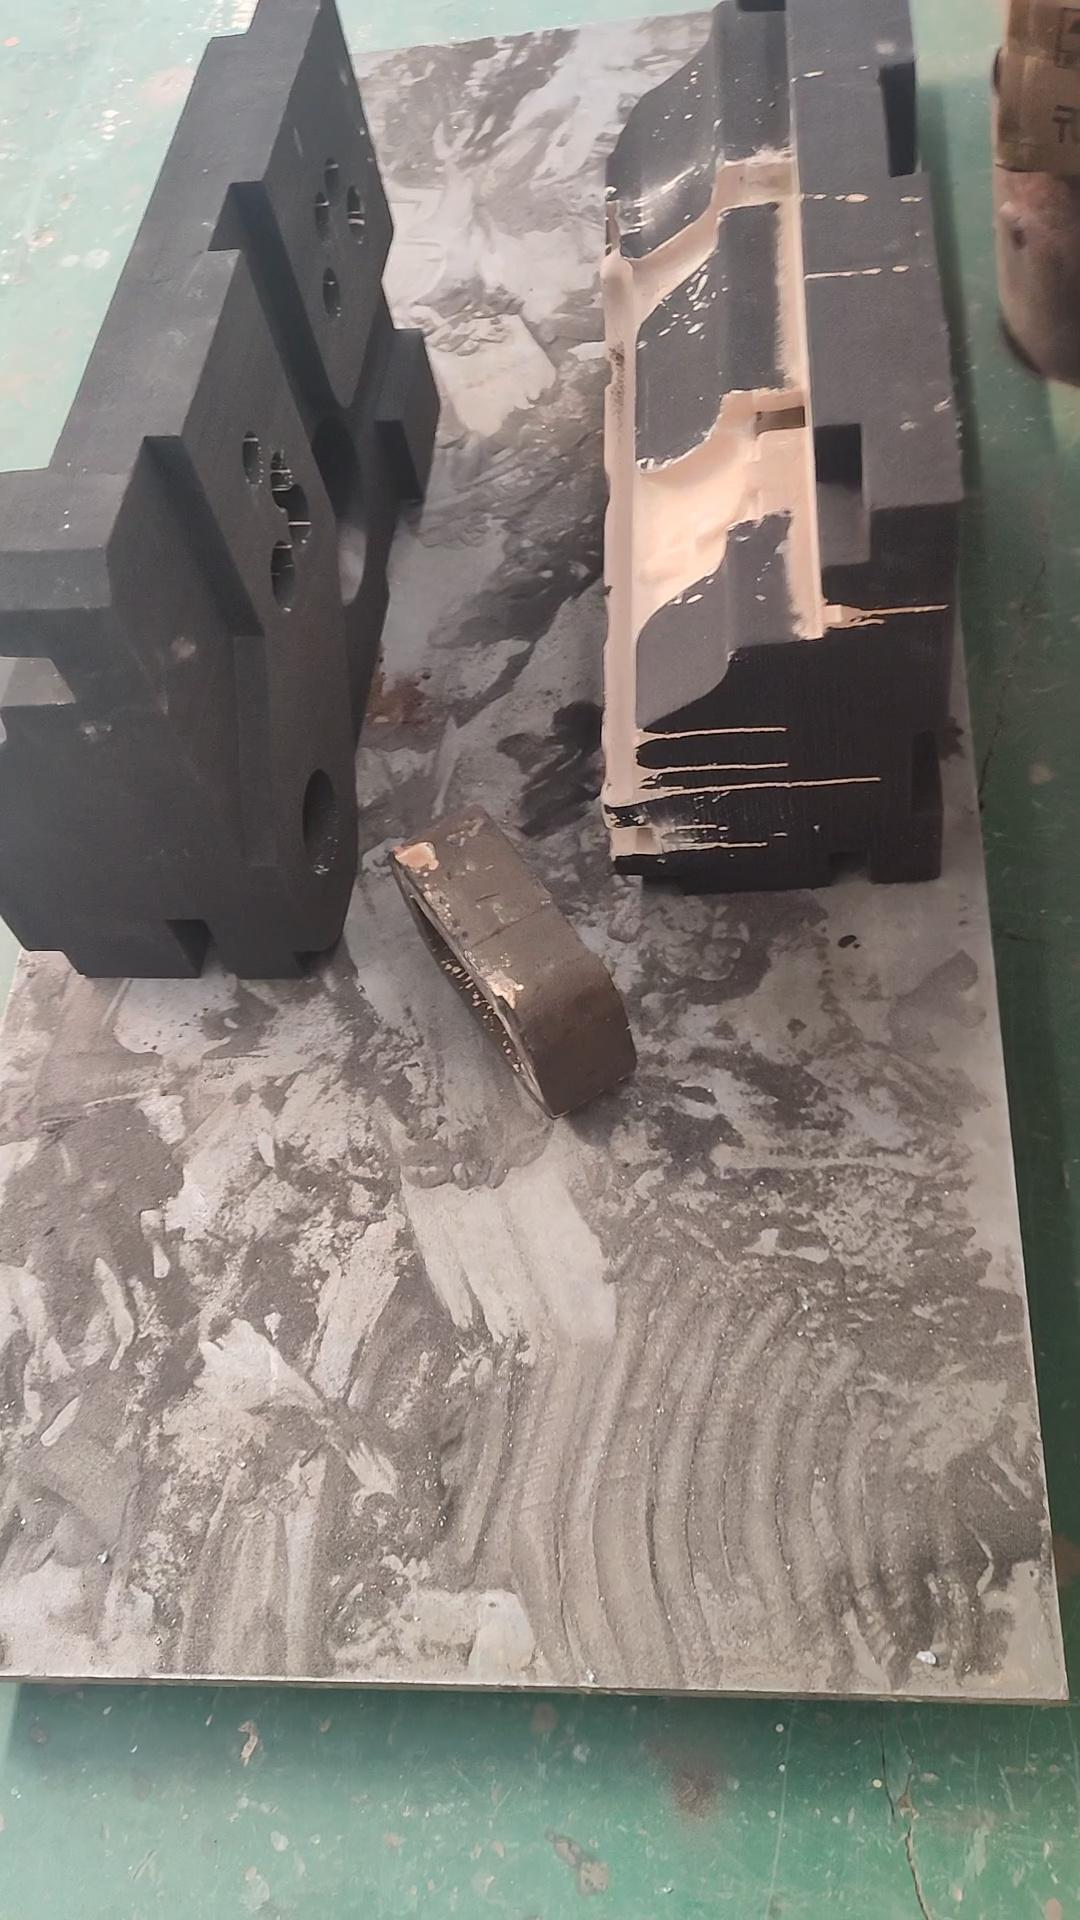pouring hole: (302, 767, 339, 876)
